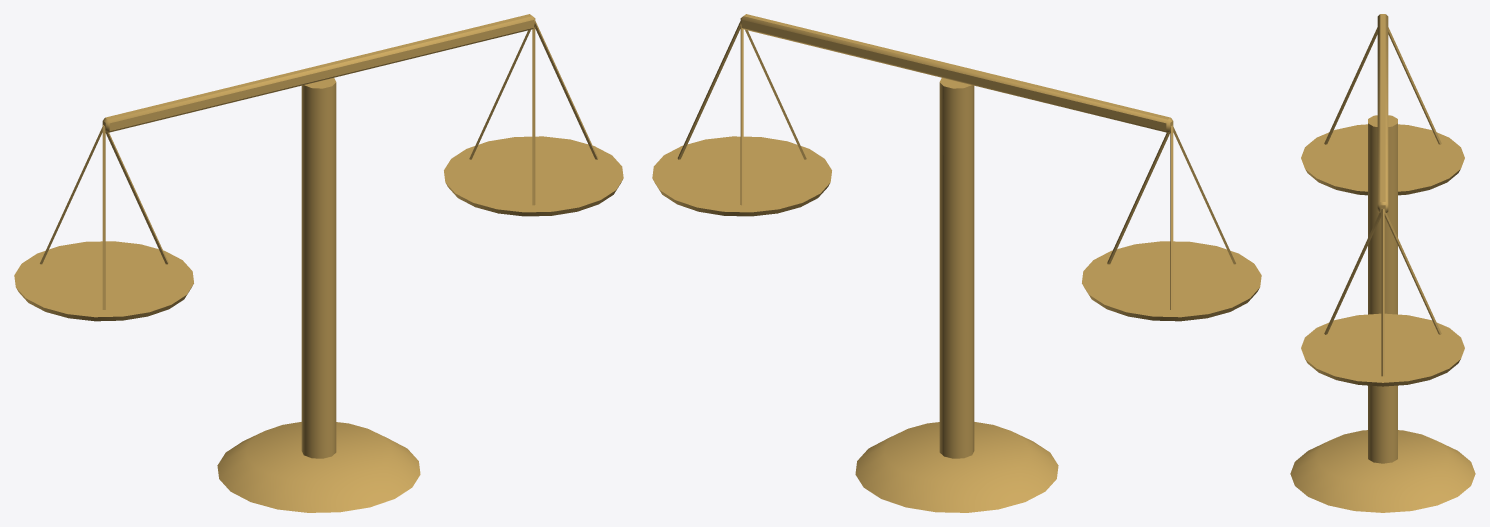
Rendered from tea-scale-brass.glb.
The picture shows the model from 3 angles, left to right: view 1: azimuth 30°, elevation 25°; view 2: azimuth 150°, elevation 25°; view 3: azimuth 270°, elevation 25°; orthographic projection. The views are drawn at different scales.
Parts seen in each view (by area): view 1: beam__brass, stand__brass; view 2: beam__brass, stand__brass; view 3: beam__brass, stand__brass.
Part boxes in pixels (x1,y1,x2,y2): beam__brass: (14,14,623,321); stand__brass: (217,78,420,512); beam__brass: (652,14,1261,321); stand__brass: (855,78,1058,512); beam__brass: (1301,14,1464,386); stand__brass: (1290,115,1475,512).
Size of the model in its own units: 0.464 by 0.305 by 0.14.
